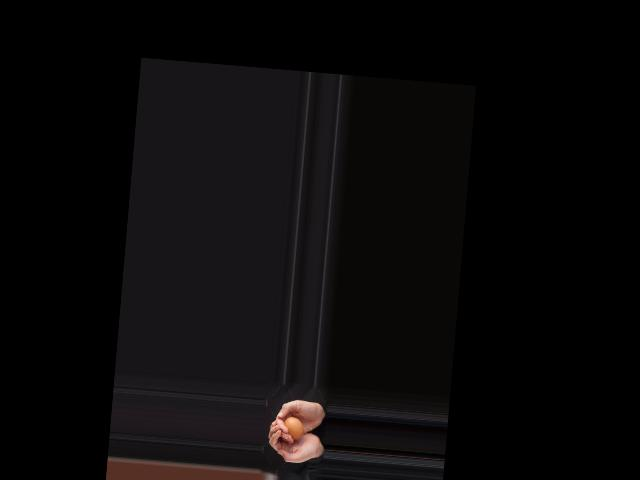egg: (283, 416, 304, 441)
